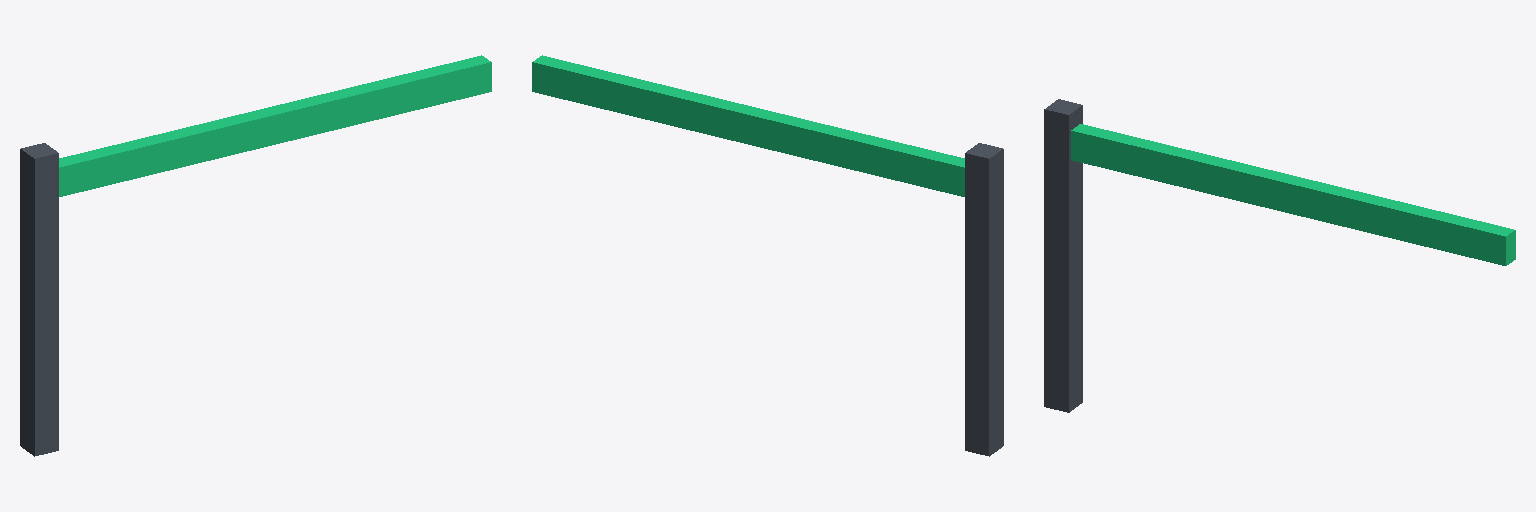
URDF robot description (parking_gate):
<?xml version="1.0"?>
<robot name="parking_gate">
  <link name="world"/>
  <link name="post">
    <visual>
      <geometry>
        <box size="0.12 0.12 1.4"/>
      </geometry>
      <material name="post_mat">
        <color rgba="0.35 0.38 0.42 1"/>
      </material>
    </visual>
  </link>
  <joint name="post_world" type="fixed">
    <parent link="world"/>
    <child link="post"/>
    <origin xyz="0 0 0.7" rpy="0 0 0"/>
  </joint>

  <link name="barrier">
    <visual>
      <origin xyz="1.1 0 0" rpy="0 0 0"/>
      <geometry>
        <box size="2.2 0.08 0.14"/>
      </geometry>
      <material name="barrier_mat">
        <color rgba="0.18 0.85 0.55 1"/>
      </material>
    </visual>
  </link>
  <joint name="barrier_joint" type="revolute">
    <parent link="post"/>
    <child link="barrier"/>
    <origin xyz="0 0 0.55" rpy="0 0 0"/>
    <axis xyz="0 1 0"/>
    <limit lower="-1.57" upper="0.1" effort="0" velocity="0"/>
  </joint>

  <link name="camera">
    <visual>
      <geometry>
        <mesh filename="package://iot_description/meshes/camera_assy.dae" scale="0.85 0.85 0.85"/>
      </geometry>
    </visual>
  </link>
  <joint name="camera_mount" type="fixed">
    <parent link="post"/>
    <child link="camera"/>
    <origin xyz="0.08 0 1.0" rpy="0 0.4 0"/>
  </joint>

  <link name="lidar">
    <visual>
      <geometry>
        <mesh filename="package://iot_description/meshes/rplidar_c1.dae" scale="0.9 0.9 0.9"/>
      </geometry>
    </visual>
  </link>
  <joint name="lidar_mount" type="fixed">
    <parent link="post"/>
    <child link="lidar"/>
    <origin xyz="-0.06 0 1.15" rpy="0 0 0"/>
  </joint>
</robot>

--- Facts derived from the render (not from the file) ---
The picture shows the robot from 3 angles, left to right: view 1: azimuth 30°, elevation 25°; view 2: azimuth 150°, elevation 25°; view 3: azimuth 330°, elevation 25°; orthographic projection.
Model parking_gate with 5 links and 4 joints (1 revolute, 3 fixed), rooted at world, posed all joints at 0.
Links seen in each view (by area): view 1: barrier, post; view 2: barrier, post; view 3: barrier, post.
Link boxes in pixels (x1,y1,x2,y2): barrier: [59, 55, 491, 196]; post: [20, 143, 58, 456]; barrier: [532, 55, 964, 196]; post: [965, 143, 1003, 456]; barrier: [1071, 124, 1515, 265]; post: [1044, 99, 1082, 412].
Size in the robot's own frame: 2.26 by 0.12 by 1.4 metres.
0 mesh visuals loaded from 2 distinct referenced files (none loaded); not drawn: 2 (file found but could not be loaded).
